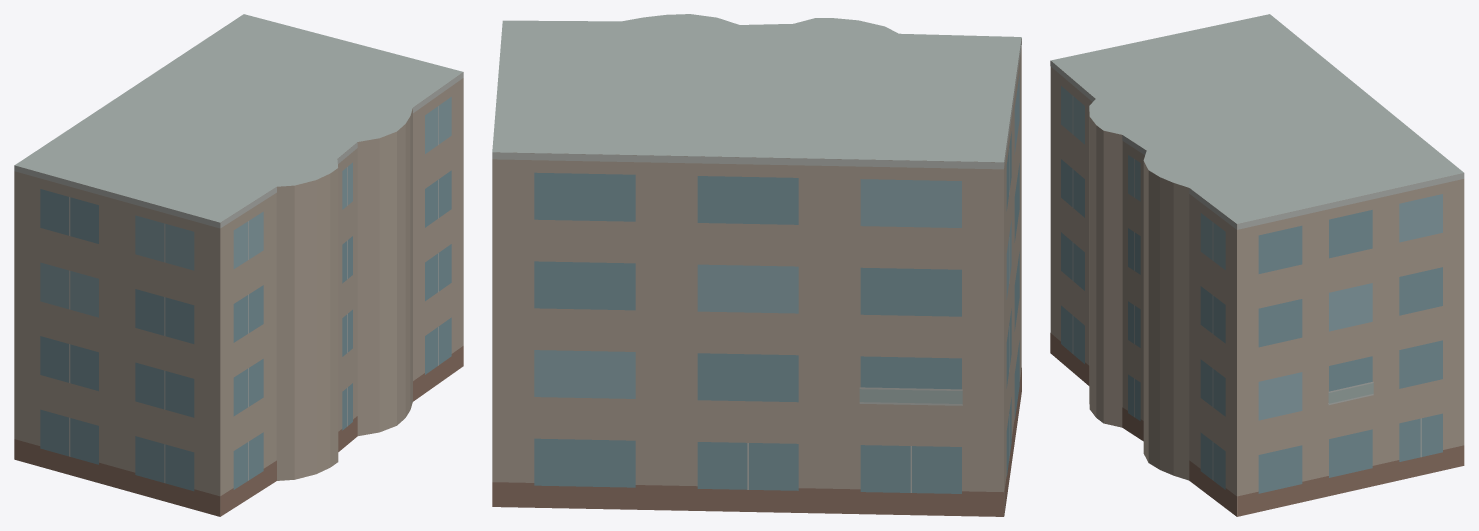
Rendered from survey-upis-32738814.glb.
3 renders of one model, left to right at view 1: azimuth 30°, elevation 25°; view 2: azimuth 150°, elevation 25°; view 3: azimuth 270°, elevation 25°, orthographic. The views are drawn at different scales.
Parts seen in each view (by area): view 1: survey-upis-32738814.tmp; view 2: survey-upis-32738814.tmp; view 3: survey-upis-32738814.tmp.
Part boxes in pixels (x1=…): survey-upis-32738814.tmp: x1=14, y1=14, x2=463, y2=516; survey-upis-32738814.tmp: x1=492, y1=14, x2=1021, y2=516; survey-upis-32738814.tmp: x1=1050, y1=14, x2=1464, y2=516.
Size of the model in its own units: 18.78 by 12.2 by 15.63.
